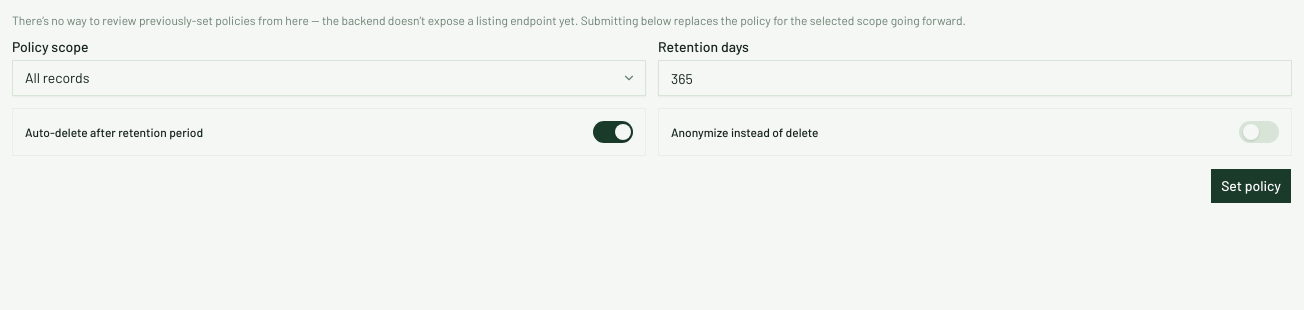
Test: RetentionPolicyForm › requires an action when scoped BY_ACTION
This screenshot has width=1304, height=310.
Select "By action" in the dropdown labelled "Policy scope". click: (329, 78)
box: [12,60,646,96]
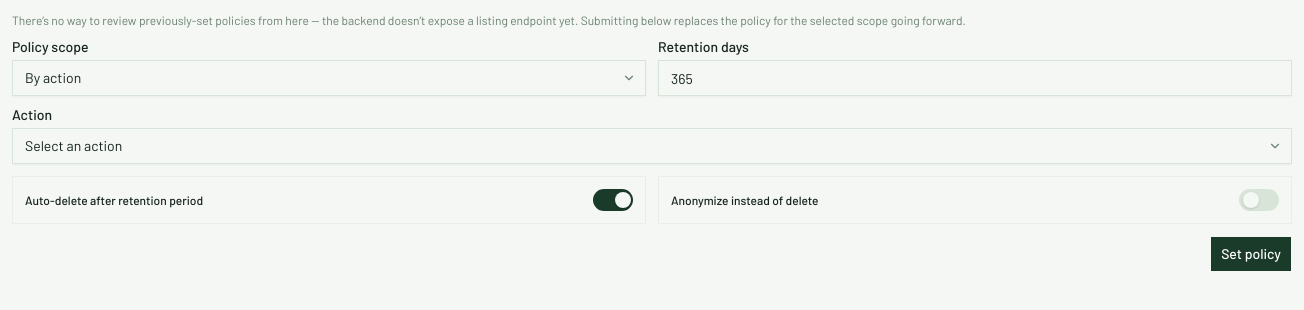
Result: the dropdown labelled "Action" is shown at [12,128,1292,164]
Click the button "Set policy". click: click(1251, 254)
box: [1210,236,1292,272]
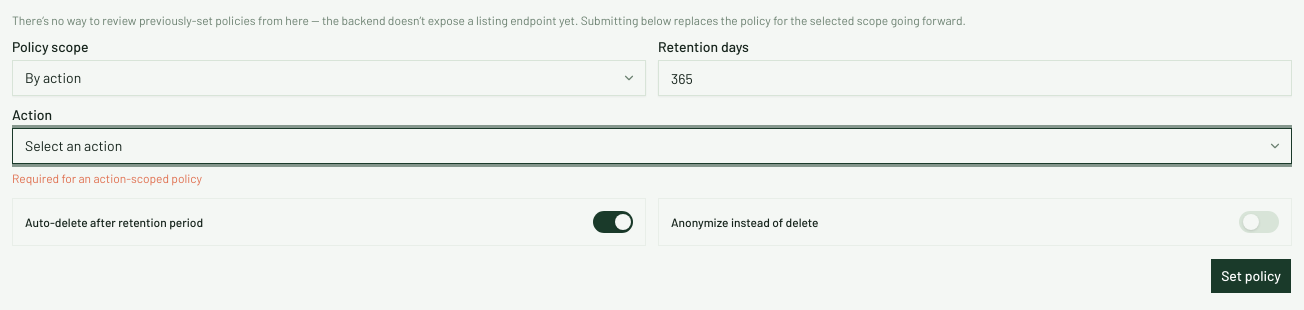
Result: the text "Required for an action-scoped policy" is shown at [12,171,202,185]
